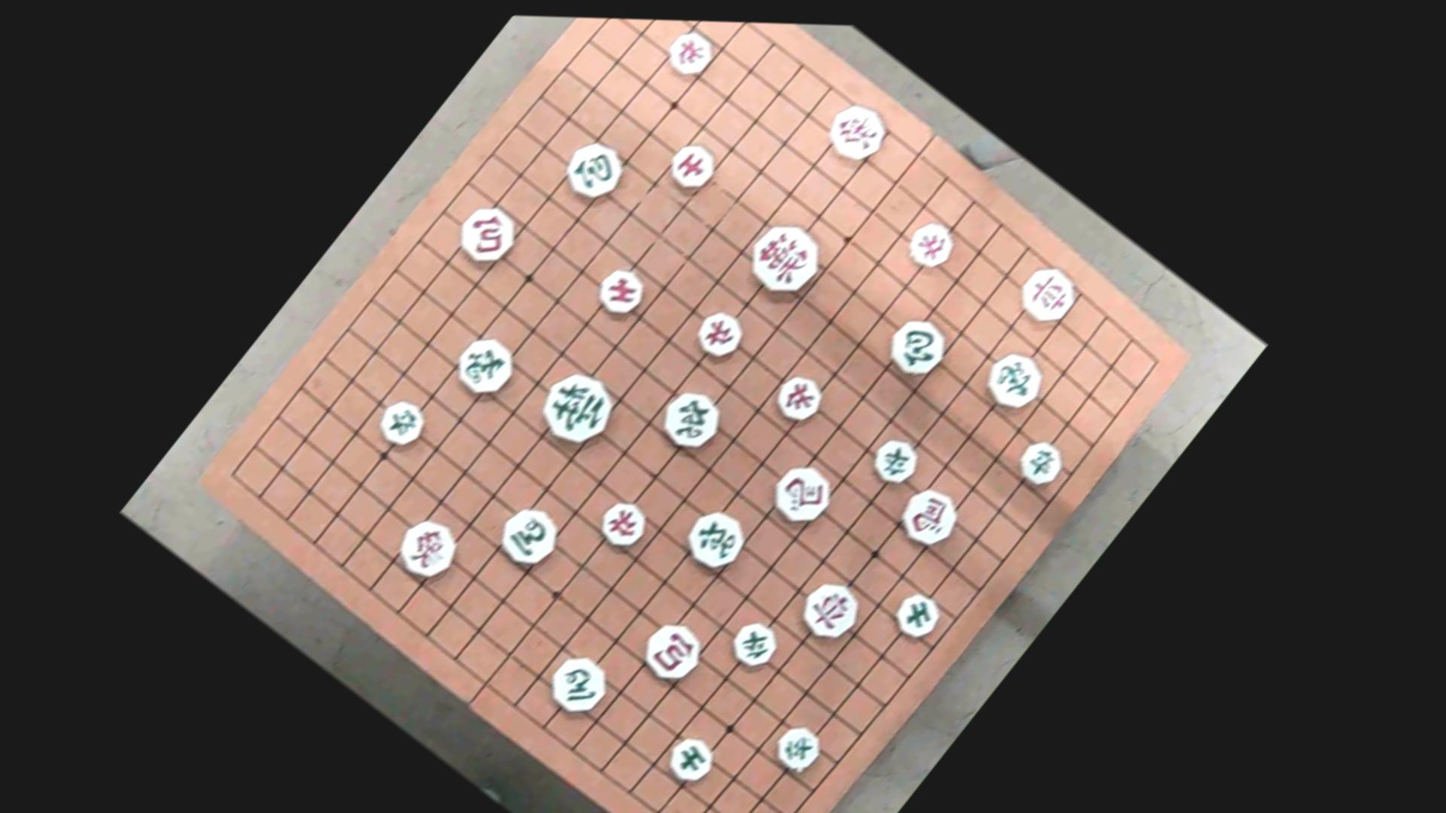cha_green: (651, 380, 731, 458), (676, 502, 755, 577)
cha_red: (790, 572, 870, 649), (1011, 259, 1084, 328)
jol_green: (371, 393, 434, 455), (765, 716, 828, 778), (721, 615, 782, 676), (864, 432, 924, 489), (1010, 437, 1068, 491)
jol_red: (766, 365, 832, 430), (686, 303, 751, 366), (899, 214, 964, 276), (590, 491, 654, 553), (656, 22, 719, 83)
ma_green: (538, 644, 618, 721), (490, 498, 568, 575)
ma_red: (761, 453, 844, 534), (889, 481, 968, 556)
po_green: (878, 308, 959, 387), (556, 131, 633, 206)
po_red: (631, 617, 710, 695), (447, 194, 526, 270)
sa_green: (886, 586, 948, 646), (660, 729, 721, 789)
sa_red: (659, 133, 724, 196), (588, 262, 651, 323)
sang_green: (446, 325, 526, 402), (978, 344, 1051, 415)
sang_red: (385, 509, 469, 589), (819, 95, 897, 169)
wang_green: (530, 364, 623, 455)
wang_red: (734, 210, 834, 305)
